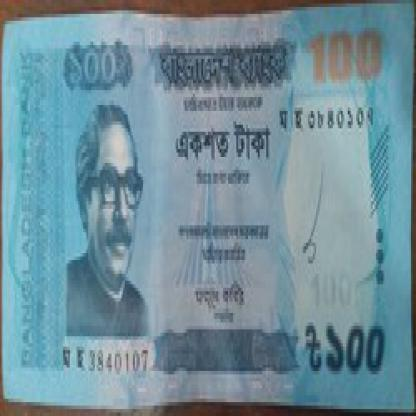one hundred taka: (302, 24, 394, 94), (323, 309, 391, 382), (64, 42, 126, 94)
